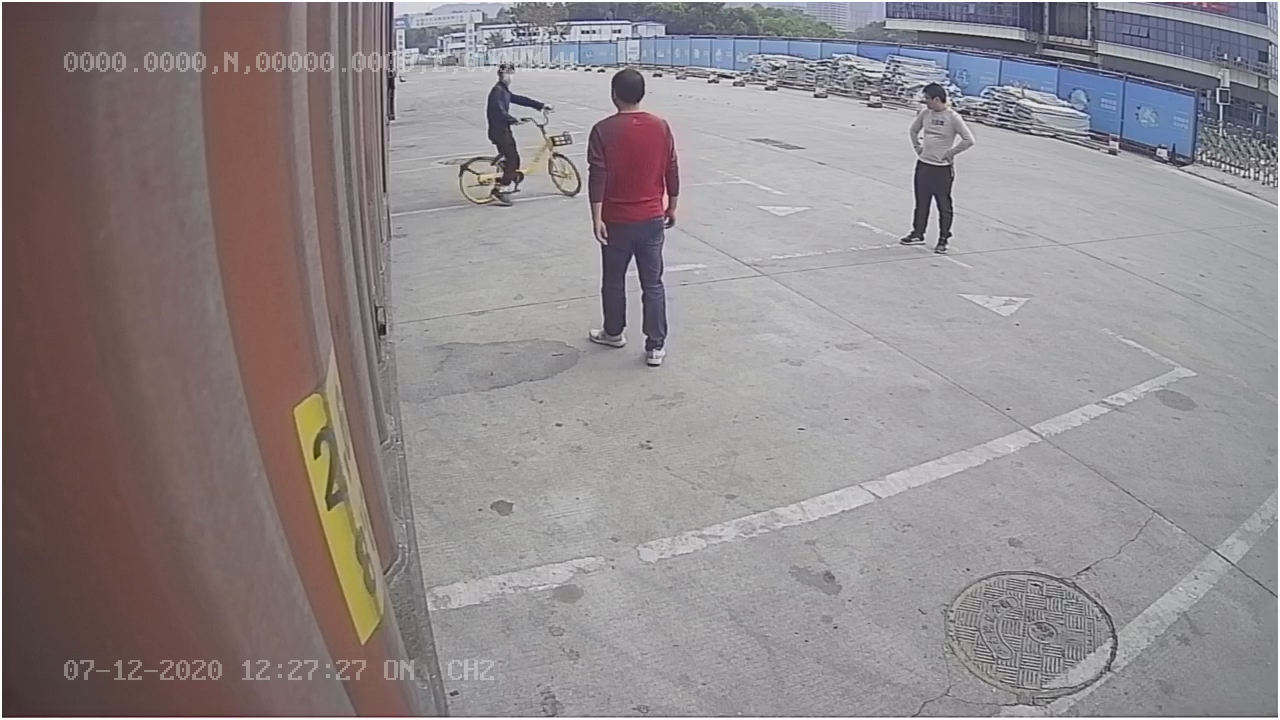person: (583, 67, 685, 367)
